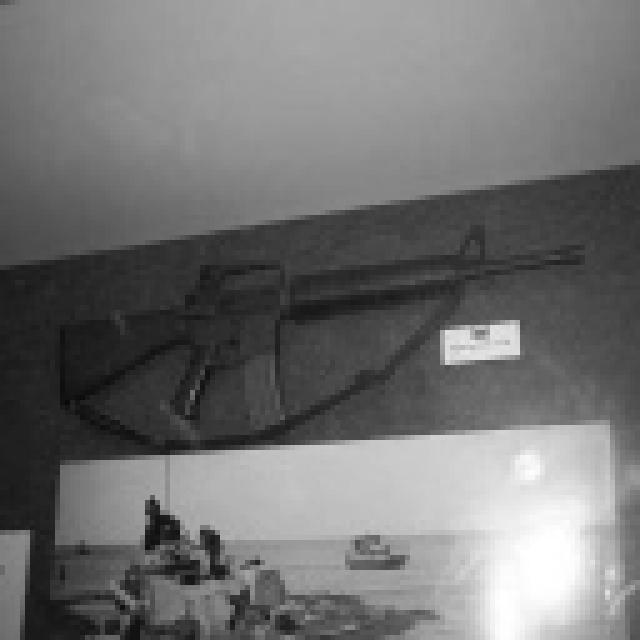Rifle: (0, 180, 605, 470)
